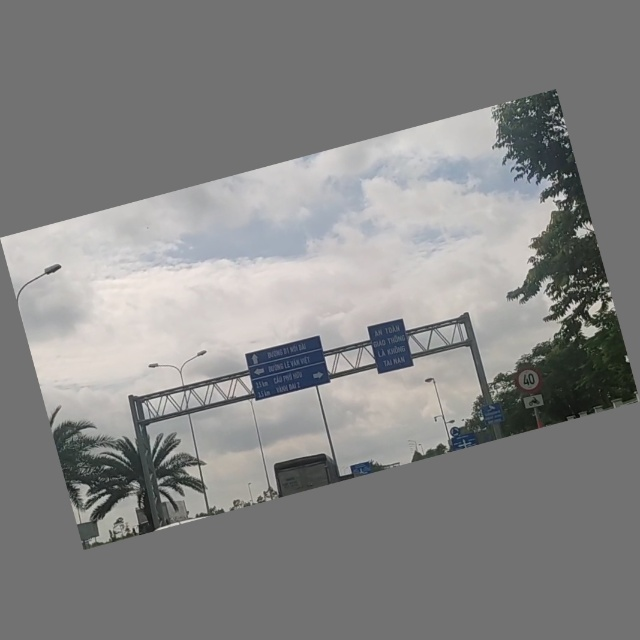P.127*40: (512, 366, 544, 397)
S.505a*Xe may: (519, 391, 549, 414)
